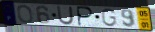6: (35, 5, 51, 25)
9: (120, 9, 136, 29)
G: (100, 8, 118, 28)
O: (16, 4, 34, 24)
P: (76, 6, 94, 27)
U: (56, 6, 75, 26)
